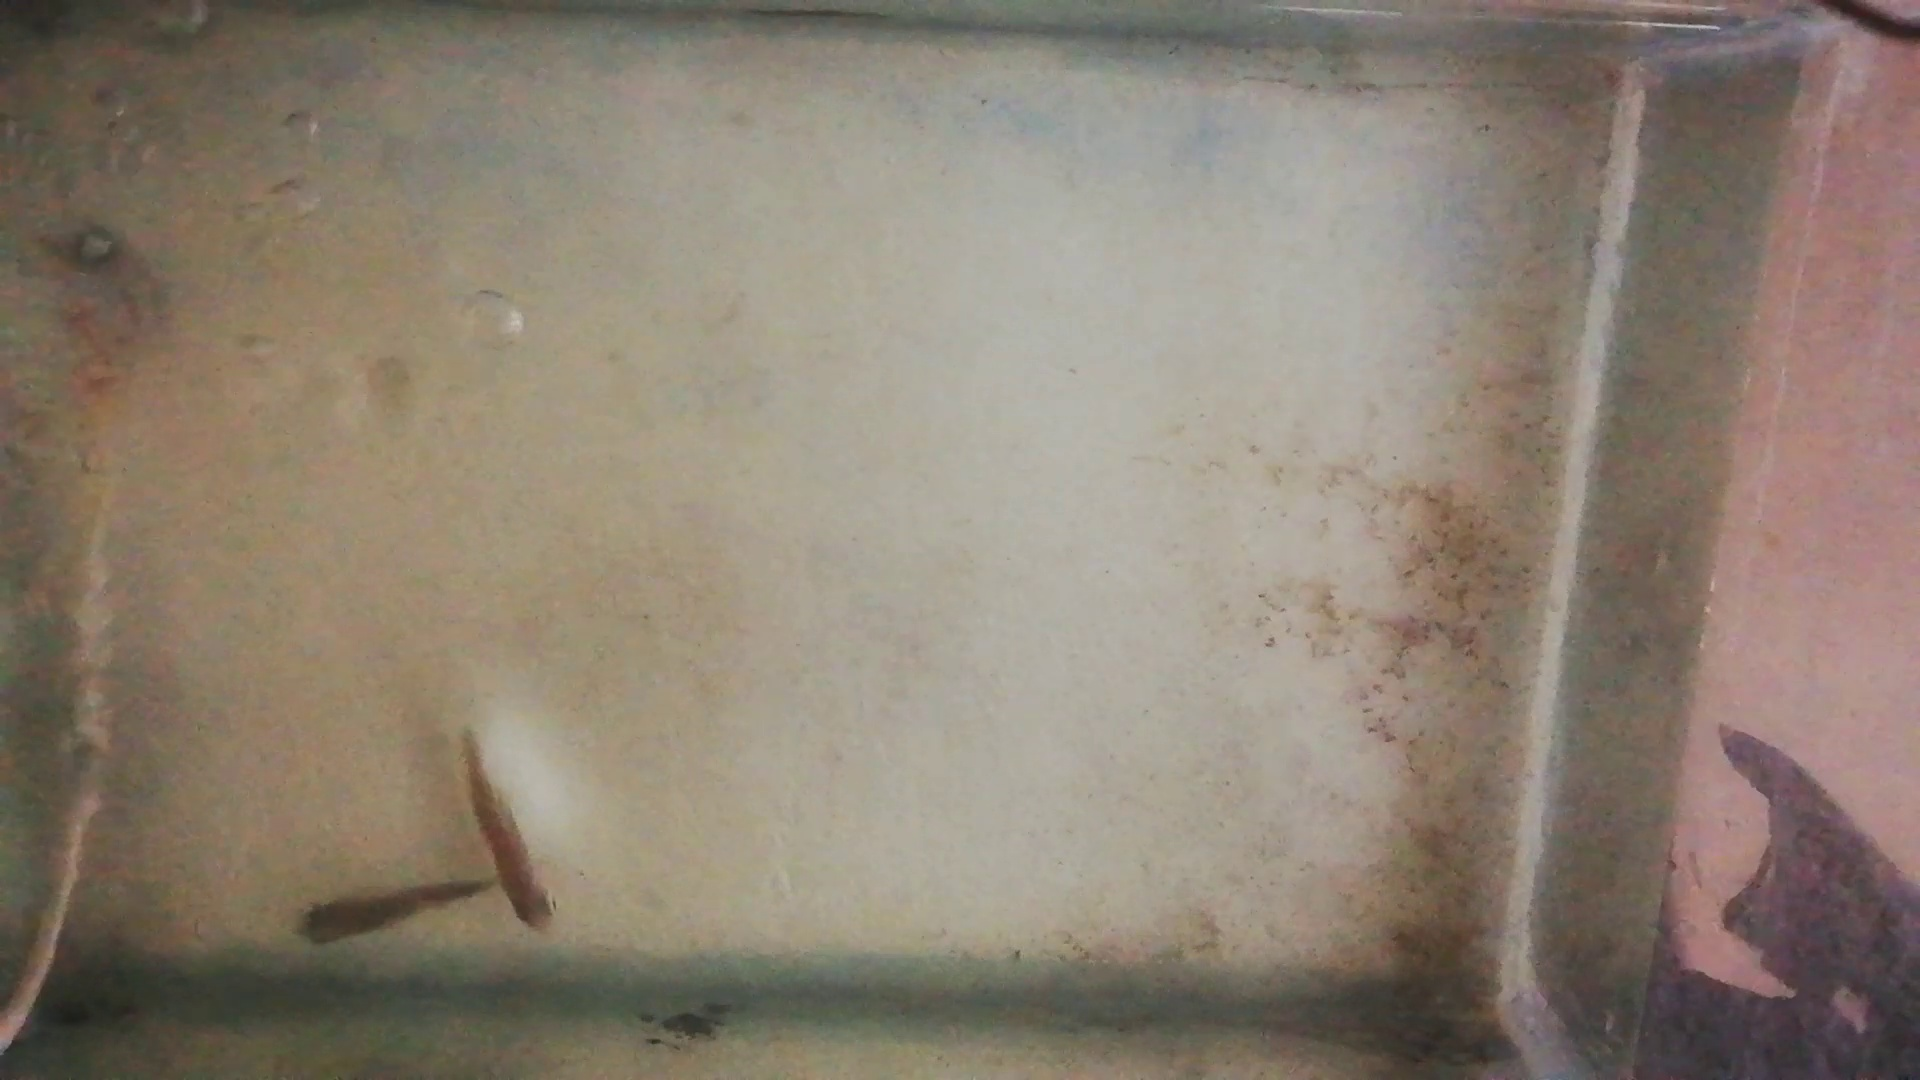fish: (462, 732, 556, 932), (299, 880, 487, 947)
